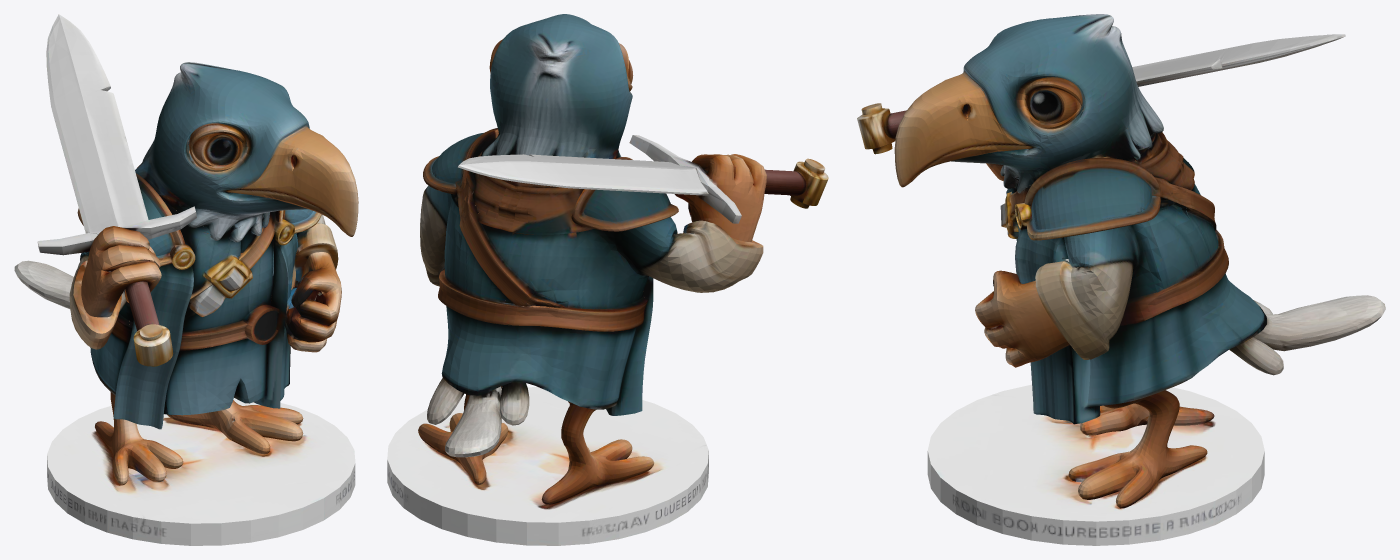
File: eagle.glb
3 renders of one model, left to right at view 1: azimuth 30°, elevation 25°; view 2: azimuth 150°, elevation 25°; view 3: azimuth 270°, elevation 25°, orthographic. The views are drawn at different scales.
Parts seen in each view (by area): view 1: tripo_node_f4766613-b64b-4a18-bd7e-b9e4be6f6f45; view 2: tripo_node_f4766613-b64b-4a18-bd7e-b9e4be6f6f45; view 3: tripo_node_f4766613-b64b-4a18-bd7e-b9e4be6f6f45.
Boxes of the visible parts, x1,y1,x2,y2 form: tripo_node_f4766613-b64b-4a18-bd7e-b9e4be6f6f45: [14, 14, 358, 545]; tripo_node_f4766613-b64b-4a18-bd7e-b9e4be6f6f45: [387, 14, 828, 545]; tripo_node_f4766613-b64b-4a18-bd7e-b9e4be6f6f45: [857, 14, 1385, 545].
Bounding box in the file's own units: 0.7331 × 0.9475 × 1.
Materials: 1 (1 with a texture image).
